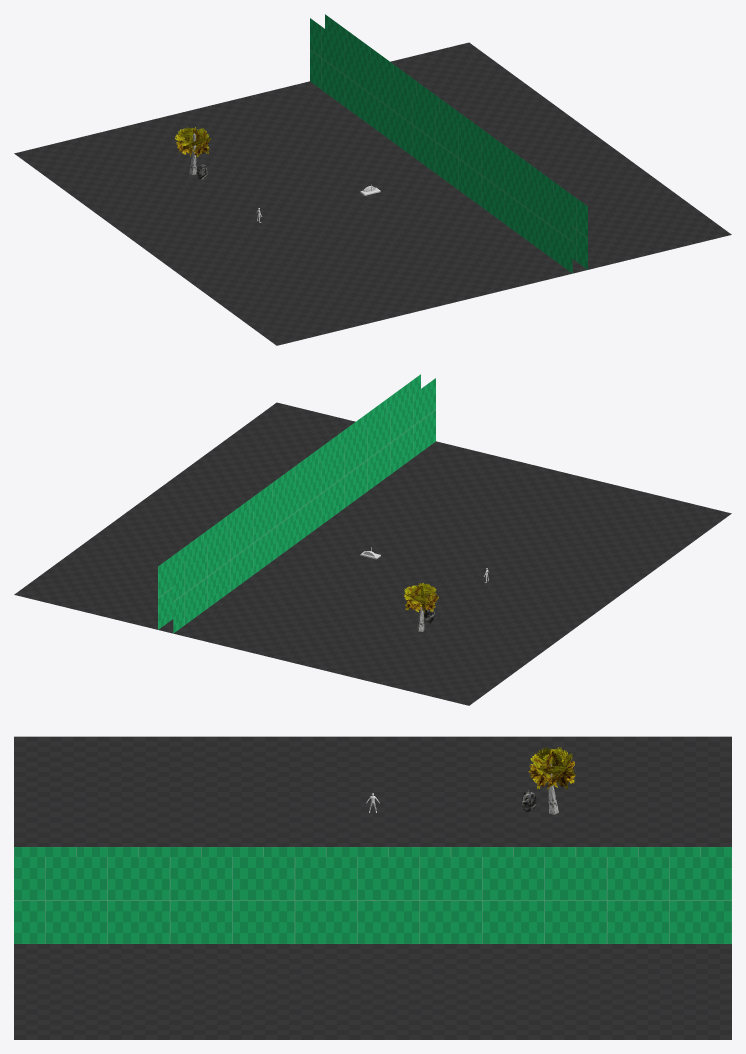
Rendered from TST_MAP1.glb.
The picture shows the model from 3 angles, top to bottom: view 1: azimuth 30°, elevation 25°; view 2: azimuth 150°, elevation 25°; view 3: azimuth 270°, elevation 25°; orthographic projection. The views are drawn at different scales.
Parts seen in each view (by area): view 1: Floor, Beeg Wall, Birch Tree; view 2: Floor, Beeg Wall, Birch Tree; view 3: Floor, Beeg Wall, Birch Tree.
Boxes of the visible parts, x1,y1,x2,y2 form: Floor: (14,42,731,345); Beeg Wall: (310,14,587,273); Birch Tree: (175,127,211,175); Floor: (14,402,731,705); Beeg Wall: (158,374,435,633); Birch Tree: (403,583,438,631); Floor: (14,736,731,1039); Beeg Wall: (14,847,731,943); Birch Tree: (528,747,576,814).
Size of what is drawn, in the model's own units: 60 by 8.42 by 60.
6 materials, 5 textured.
